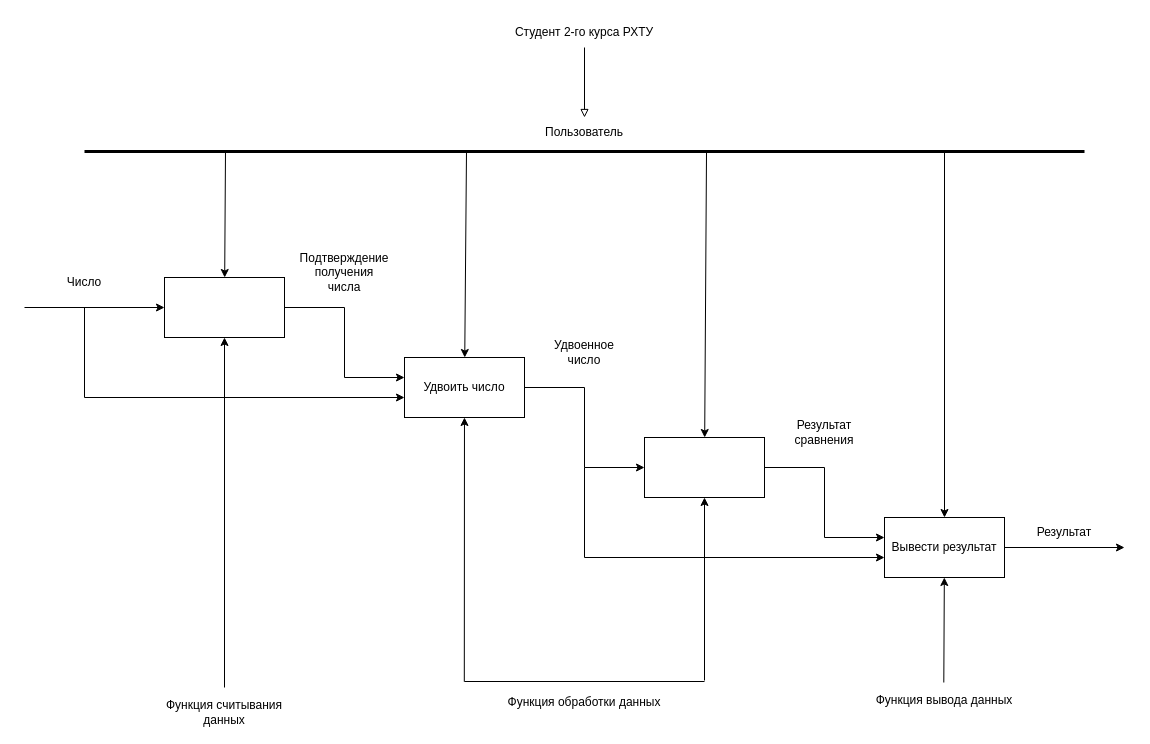
Some shapes in this 1150 by 744 pixel diagram are drawn without their labels. The shapes that lost their labels are listed below. From the top down, each one's centre as x and y in pixels, then its label:
(224,307): Подтвердить получение числа
(704,467): Сравнить число с нулём
